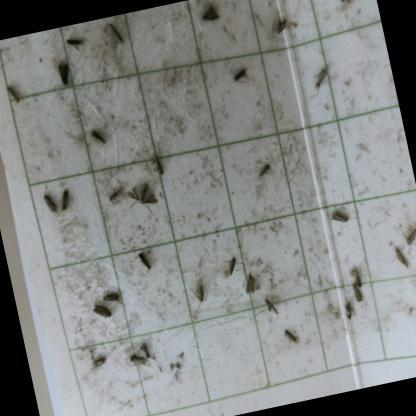prays_oleae: (121, 172, 163, 228), (321, 202, 356, 238), (238, 266, 268, 304), (84, 292, 116, 327), (82, 112, 110, 151), (98, 179, 127, 216), (271, 10, 298, 46), (306, 62, 333, 96), (188, 275, 212, 313), (144, 147, 170, 182), (0, 78, 23, 117), (132, 246, 156, 283), (102, 19, 132, 48), (84, 346, 113, 376), (197, 1, 224, 31), (218, 248, 242, 280), (50, 56, 74, 88), (40, 190, 62, 224), (390, 242, 412, 275), (226, 61, 250, 90), (135, 332, 156, 362), (56, 182, 74, 215), (60, 30, 84, 54), (336, 300, 358, 326), (260, 290, 280, 318), (280, 321, 300, 346), (254, 158, 274, 182), (346, 282, 366, 306), (100, 282, 124, 301), (120, 350, 144, 368), (350, 264, 364, 290), (403, 221, 416, 247), (334, 0, 360, 12)
